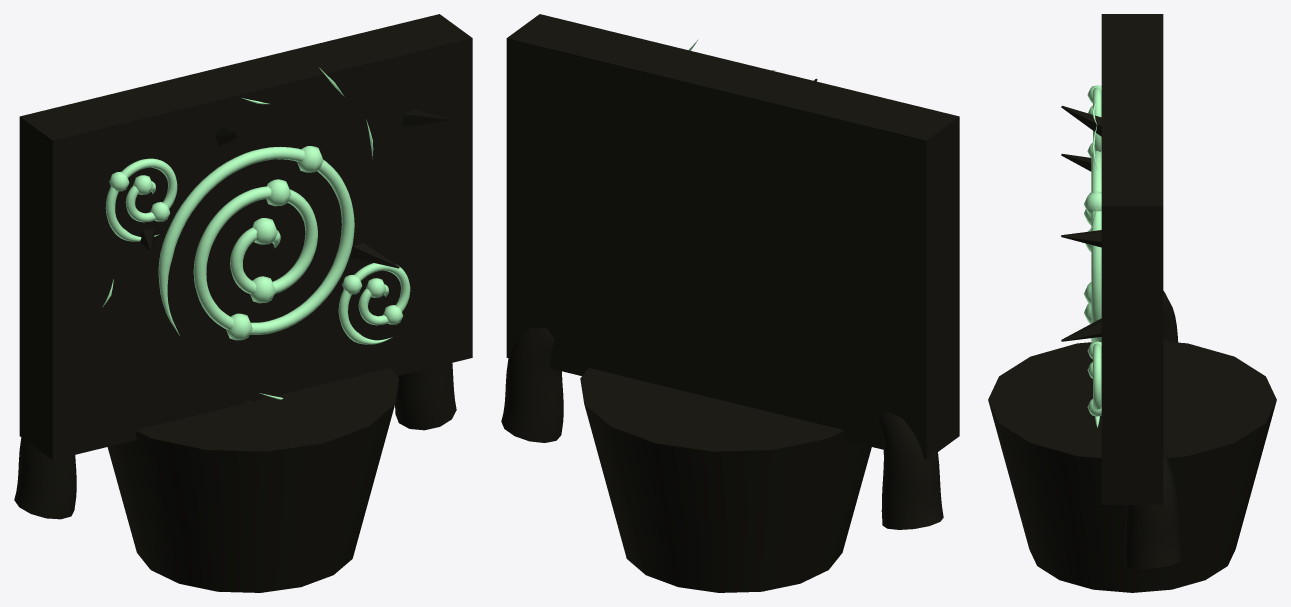
The model's file is dornenschrift.obj.
3 views of the same model, side by side, from view 1: azimuth 30°, elevation 25°; view 2: azimuth 150°, elevation 25°; view 3: azimuth 270°, elevation 25° (orthographic). The views are drawn at different scales.
Visible parts, largest first — view 1: Dornenschrift; view 2: Dornenschrift; view 3: Dornenschrift.
Part boxes in pixels (x1,y1,x2,y2): Dornenschrift: (14,14,472,592); Dornenschrift: (501,14,959,592); Dornenschrift: (988,14,1276,592).
Bounding box in the file's own units: 2.27 × 2.41 × 1.4.
